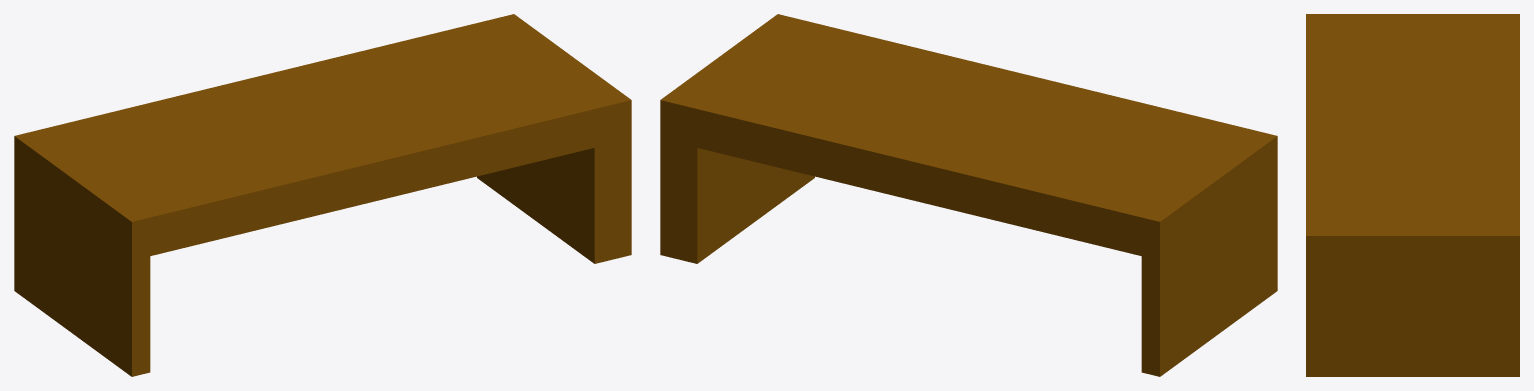
The model's file is bench desk.gltf.
3 views of the same model, side by side, from view 1: azimuth 30°, elevation 25°; view 2: azimuth 150°, elevation 25°; view 3: azimuth 270°, elevation 25° (orthographic). The views are drawn at different scales.
Parts seen in each view (by area): view 1: Layer.1; view 2: Layer.1; view 3: Layer.1.
Boxes of the visible parts, x1=… form: Layer.1: x1=14, y1=14, x2=631, y2=376; Layer.1: x1=660, y1=14, x2=1277, y2=376; Layer.1: x1=1306, y1=14, x2=1519, y2=376.
Bounding box in the file's own units: 27 × 8 × 11.
Materials: 1 (1 with a texture image).
